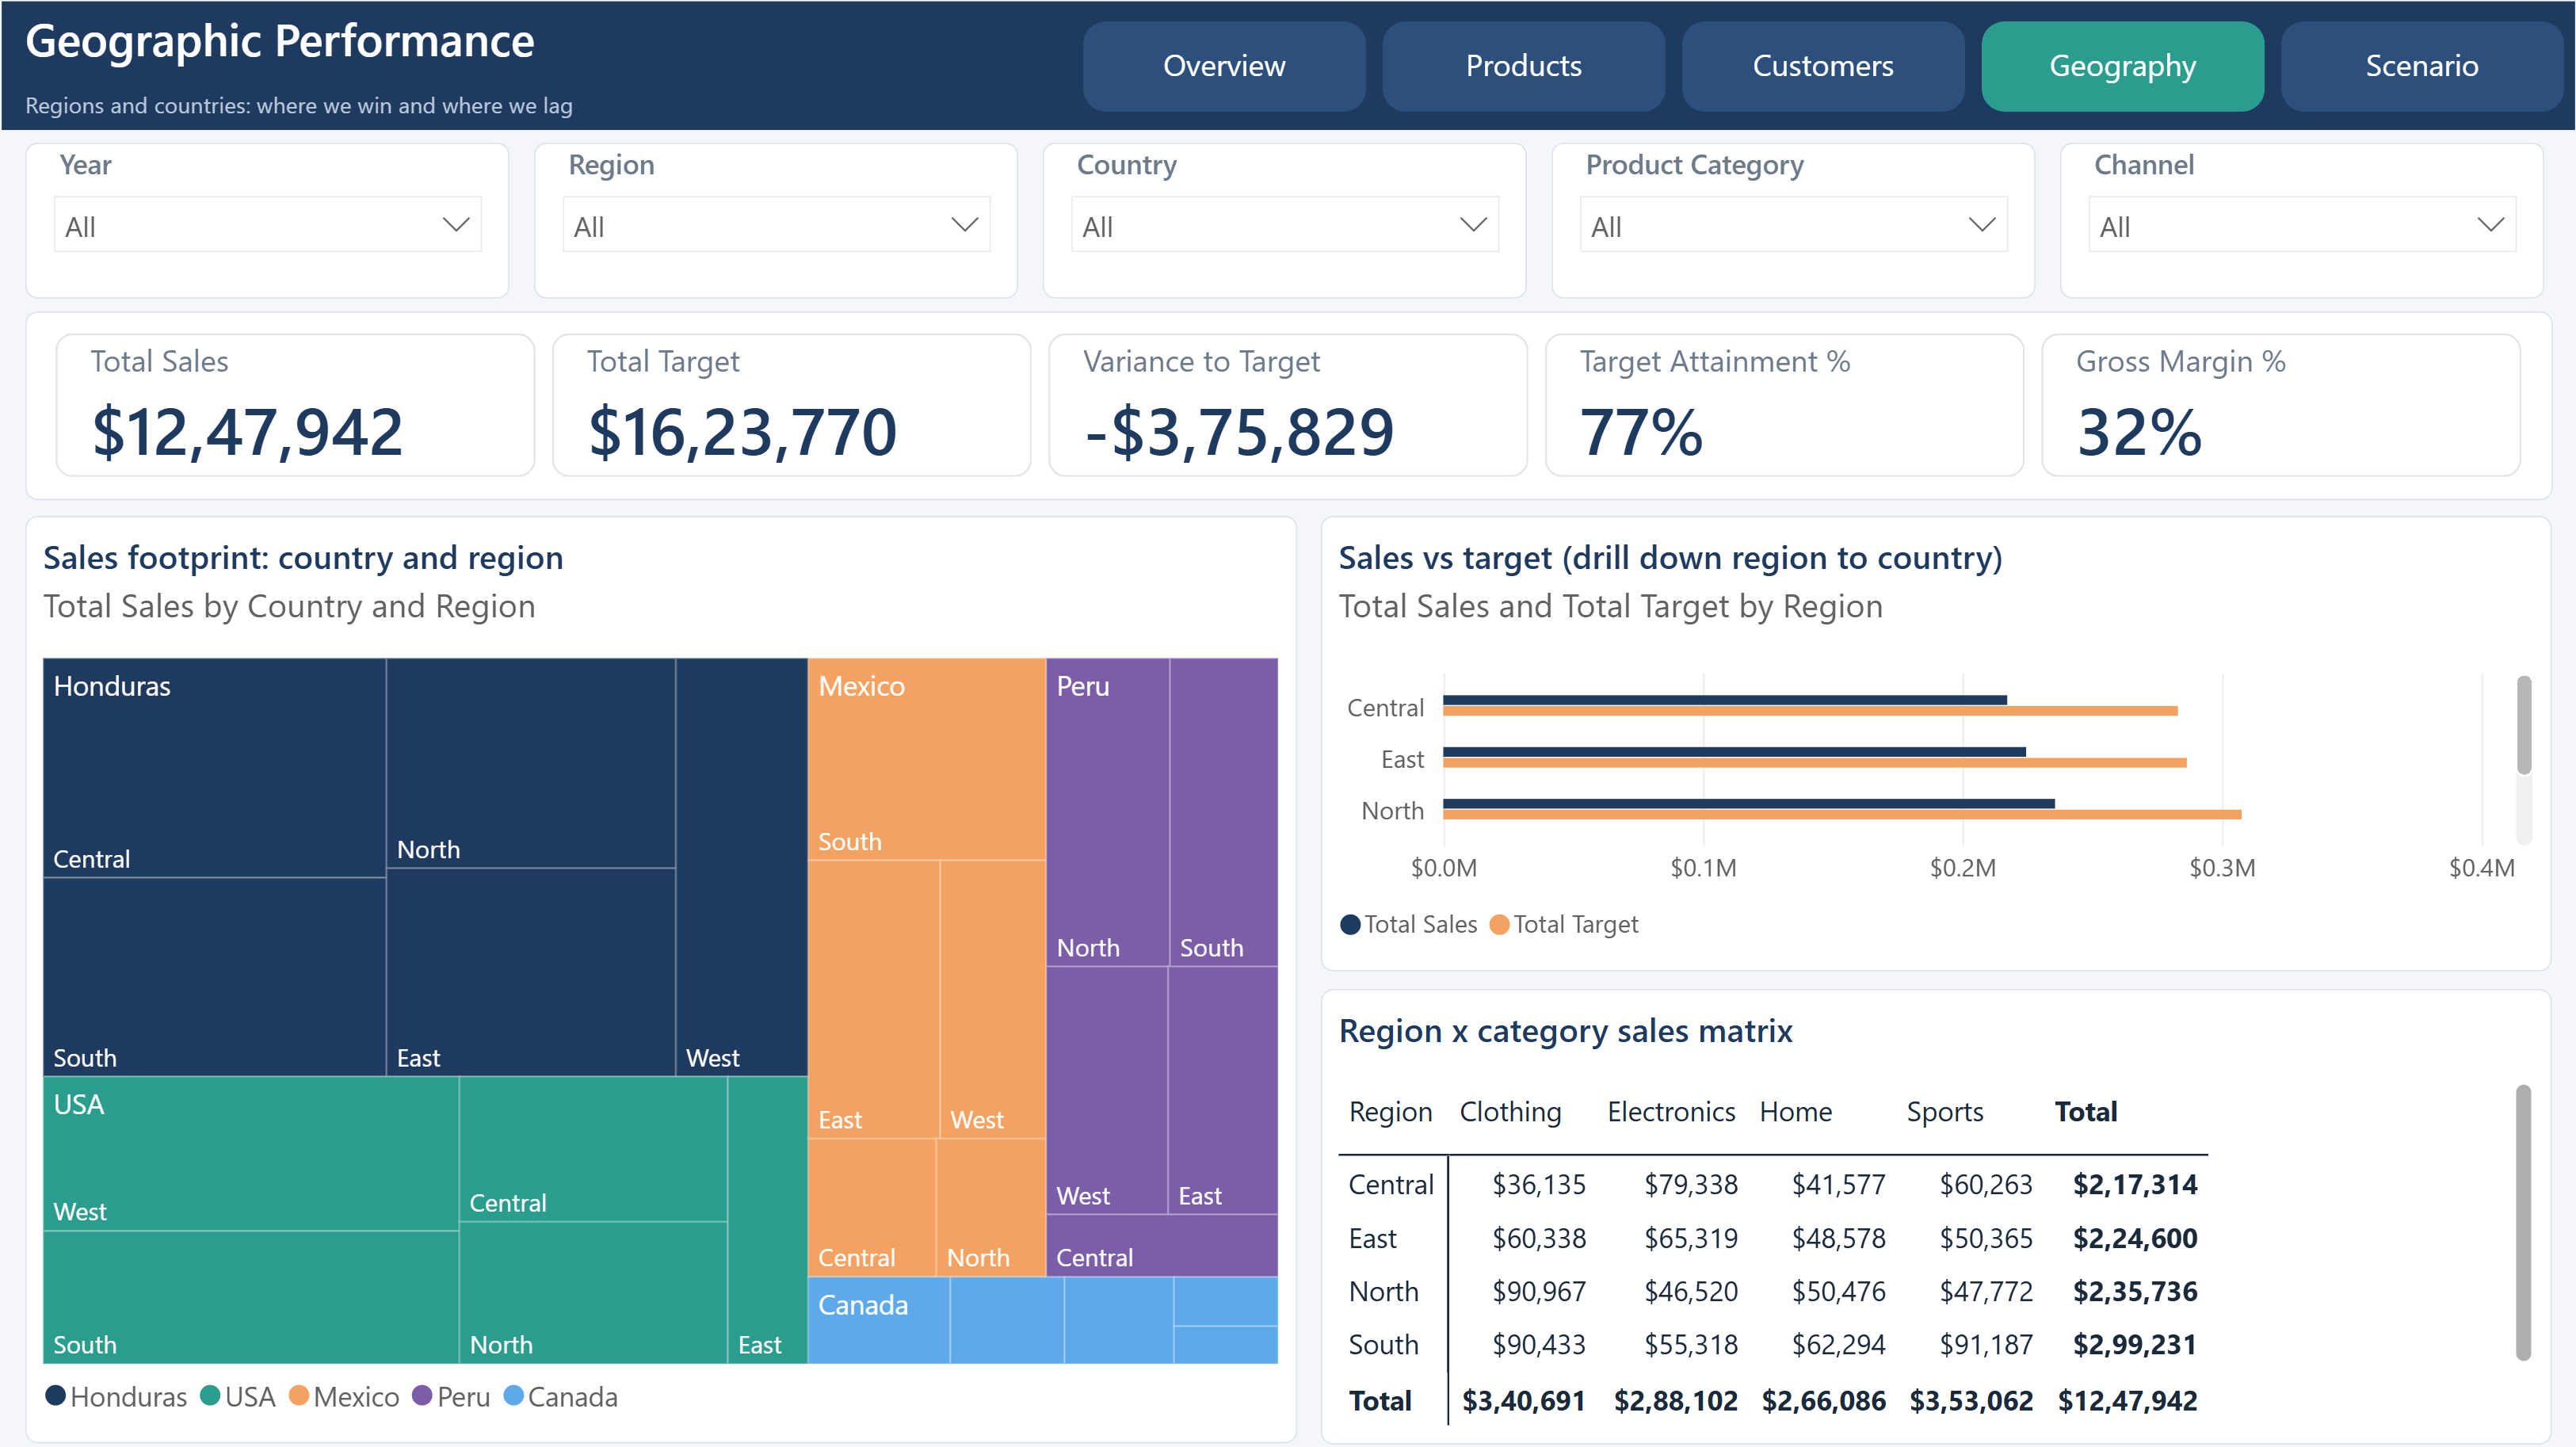

The dashboard page shown, as its layout file describes it:
{"tool":"powerbi","page":{"name":"Geographic Performance","canvas":[1280,720],"ordinal":3},"visuals":[{"type":"basicShape","box":[0,0,1280,64],"z":1010},{"type":"textbox","box":[24,4,470,36],"z":1020},{"type":"textbox","box":[24,40,470,22],"z":1030},{"type":"actionButton","box":[540,10,138,44],"z":1040},{"type":"actionButton","box":[686,10,138,44],"z":1050},{"type":"actionButton","box":[832,10,138,44],"z":1060},{"type":"actionButton","box":[978,10,138,44],"z":1070},{"type":"actionButton","box":[1124,10,138,44],"z":1080},{"type":"slicer","fields":{"Values":["Date.Year"]},"box":[24,70,236,76],"z":1090},{"type":"slicer","fields":{"Values":["Sales.Region"]},"box":[272,70,236,76],"z":1100},{"type":"slicer","fields":{"Values":["Sales.Country"]},"box":[520,70,236,76],"z":1110},{"type":"slicer","fields":{"Values":["Sales.Product Category"]},"box":[768,70,236,76],"z":1120},{"type":"slicer","fields":{"Values":["Sales.Channel"]},"box":[1016,70,236,76],"z":1130},{"type":"cardVisual","fields":{"Data":["Sales.Total Sales","Sales.Total Target","Sales.Variance to Target","Sales.Target Attainment %","Sales.Gross Margin %"]},"box":[24,152,1232,92],"z":1140},{"type":"treemap","title":"Sales footprint: country and region","fields":{"Group":["Sales.Geography Hierarchy.Country"],"Details":["Sales.Geography Hierarchy.Region"],"Values":["Sales.Total Sales"]},"box":[24,252,620,452],"z":1150},{"type":"clusteredBarChart","title":"Sales vs target (drill down region to country)","fields":{"Category":["Sales.Geography Hierarchy.Region","Sales.Geography Hierarchy.Country"],"Y":["Sales.Total Sales","Sales.Total Target"]},"box":[656,252,600,222],"z":1160},{"type":"pivotTable","title":"Region x category sales matrix","fields":{"Columns":["Sales.Product Category"],"Rows":["Sales.Region"],"Values":["Sales.Total Sales"]},"box":[656,482,600,222],"z":1170}]}

Visuals, with their boxes in screenshot pixels (x1, y1, x2, y2), scaled from the page's 1280x720 canvas onto the 2576x1447 screenshot:
basicShape: 0,0,2575,128
textbox: 48,8,994,80
textbox: 48,80,994,124
actionButton: 1087,20,1364,109
actionButton: 1380,20,1658,109
actionButton: 1674,20,1952,109
actionButton: 1968,20,2246,109
actionButton: 2262,20,2540,109
slicer - Date.Year: 48,141,523,293
slicer - Sales.Region: 548,141,1022,293
slicer - Sales.Country: 1047,141,1521,293
slicer - Sales.Product Category: 1546,141,2021,293
slicer - Sales.Channel: 2044,141,2520,293
cardVisual - Sales.Total Sales x Sales.Total Target: 48,305,2528,491
"Sales footprint: country and region" treemap: 48,506,1296,1415
"Sales vs target (drill down region to country)" clusteredBarChart: 1320,506,2528,953
"Region x category sales matrix" pivotTable: 1320,968,2528,1415
